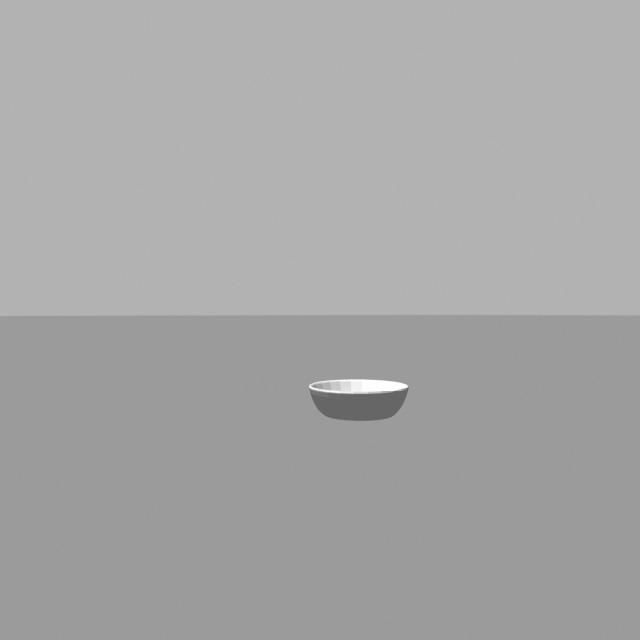bowl: (292, 363, 416, 433)
